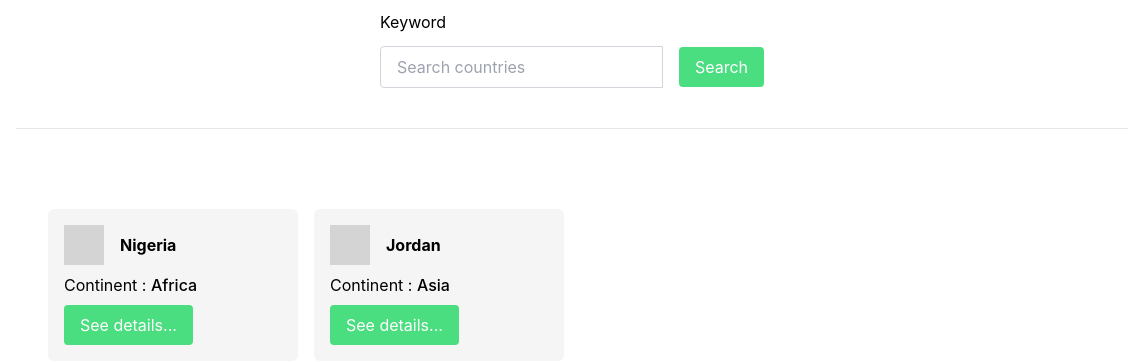
Test: CountryCatalog › renders country cards with data
Check: the text "Nigeria" is shown, box [120, 233, 176, 257]
Check: the text "Africa" is shown, box [151, 275, 197, 295]
In the field with placeholder "Search countries": (521, 67) [380, 46, 663, 88], type "Nigeria"
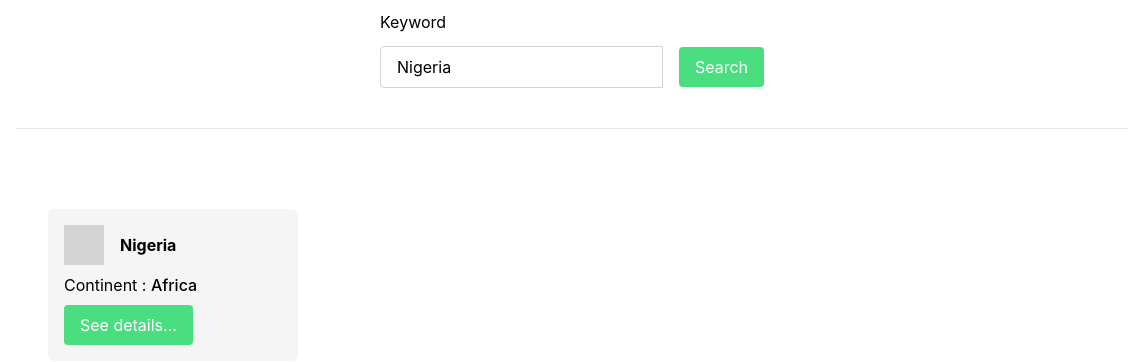
Check: the text "Nigeria" is shown, box [120, 233, 176, 257]
Check: the text "Jordan" is gone
Check: the text "Asia" is gone
